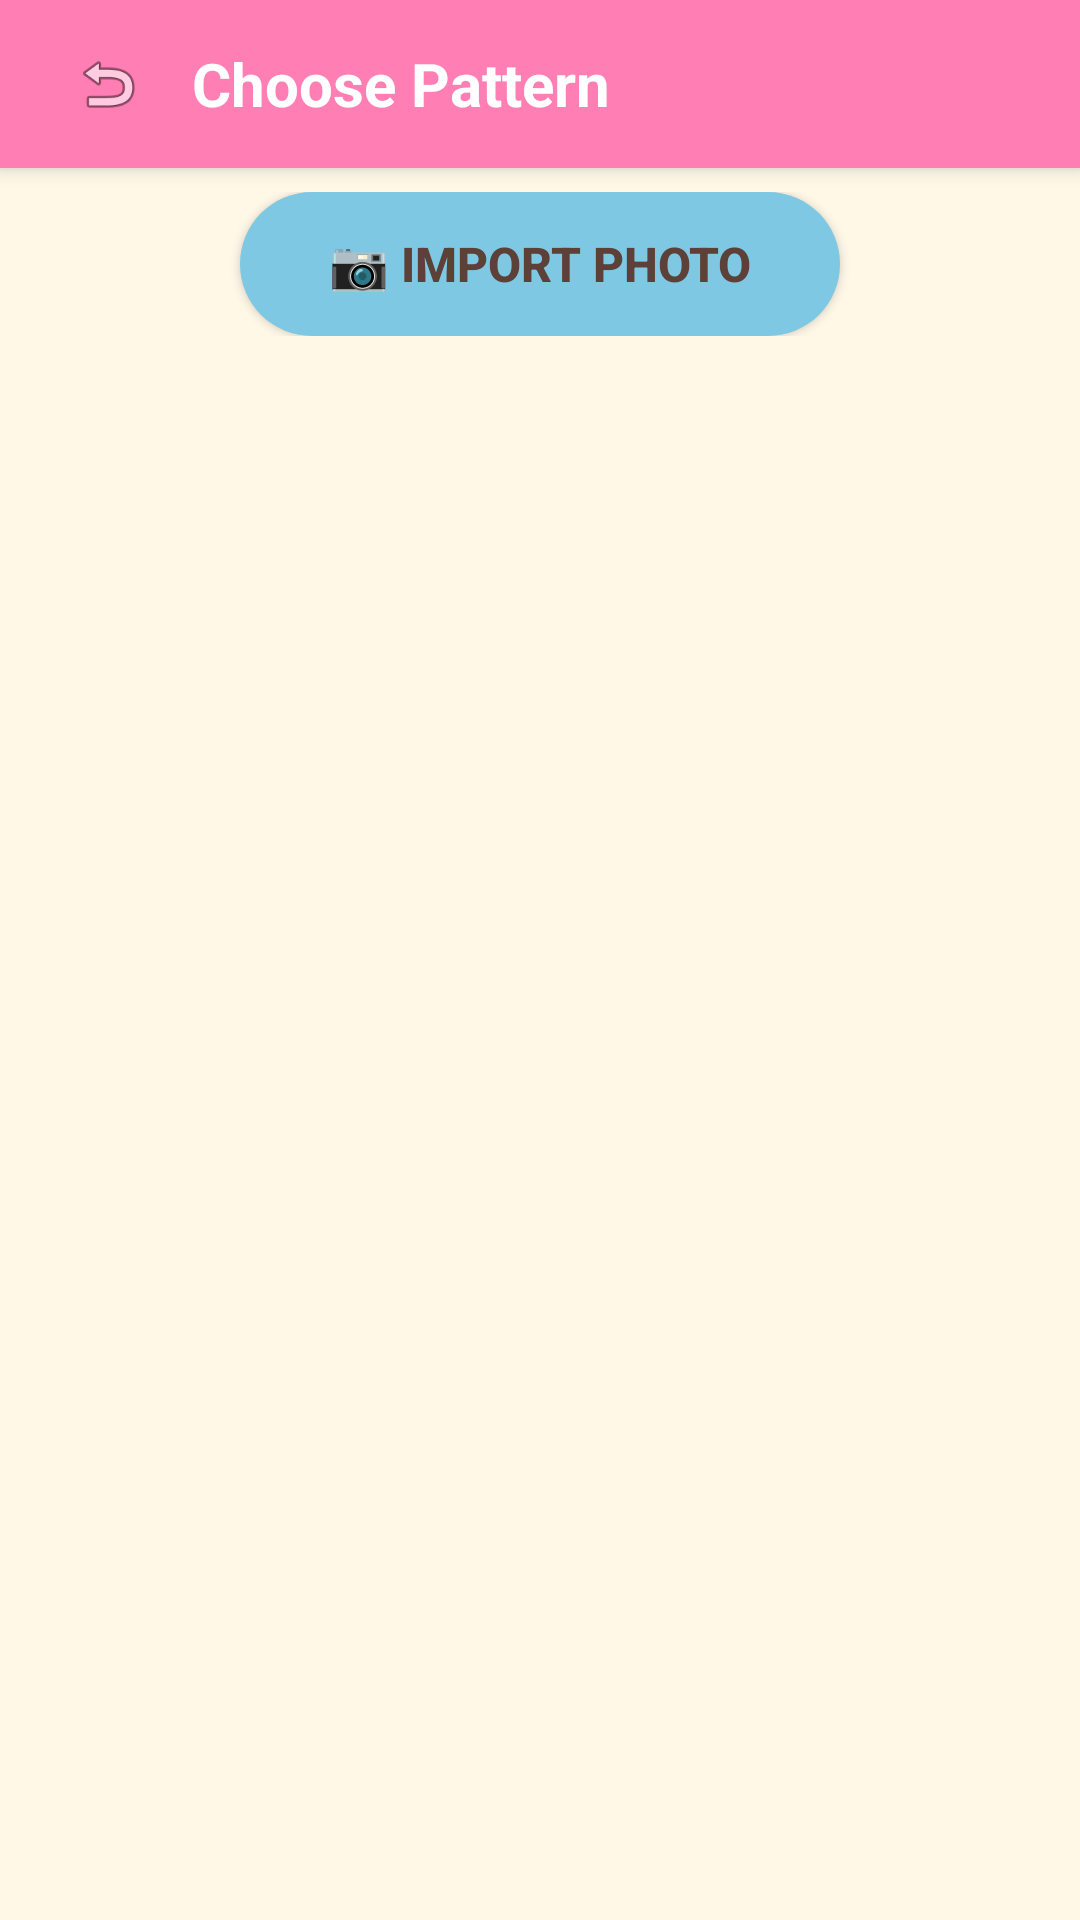

Named icons in this screenshot (1080*1920) and their centers, (x,y):
返回: (109,84)
